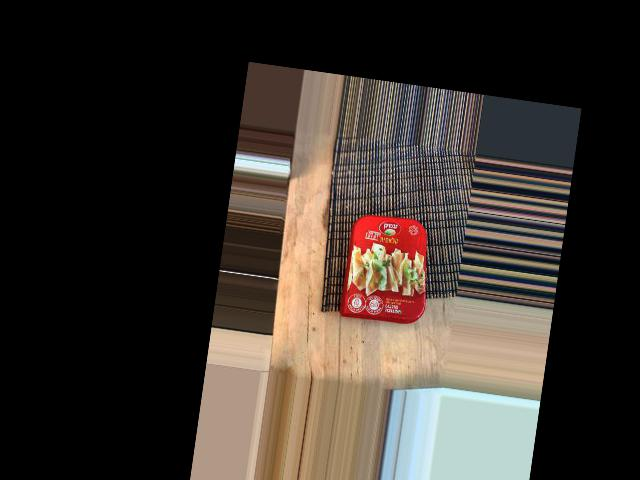cheese: (349, 175, 470, 288)
